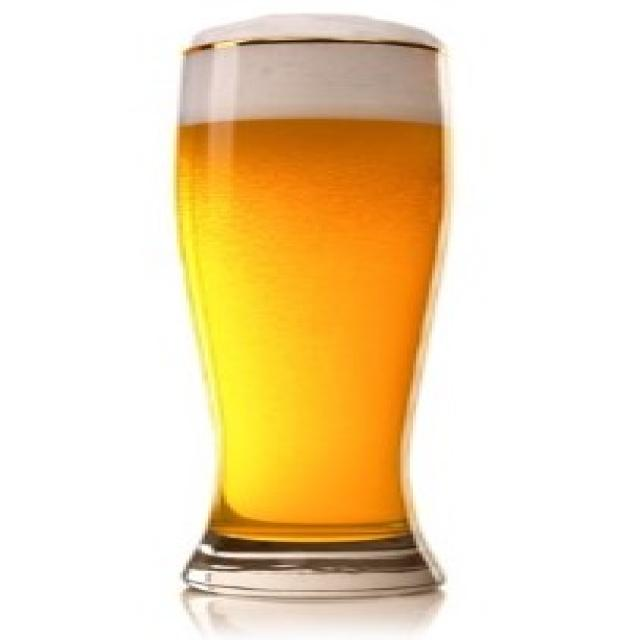electronic: (174, 35, 457, 602)
